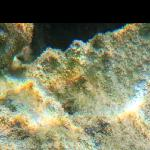dead: (4, 24, 147, 147)
